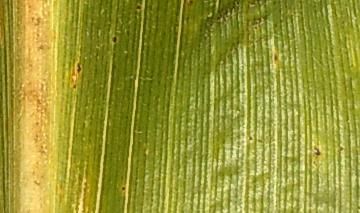tarspot: (311, 146, 323, 159), (133, 2, 145, 14), (109, 34, 120, 46), (75, 60, 83, 75), (70, 81, 79, 92), (119, 184, 128, 194), (246, 134, 255, 143)
